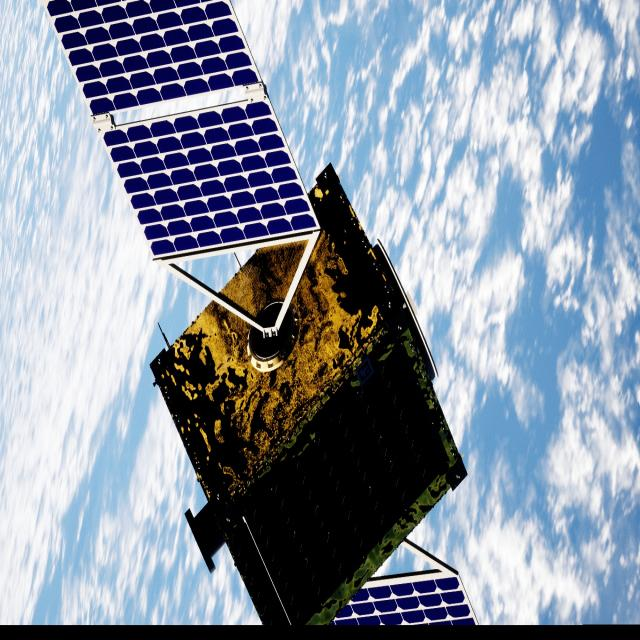satellite: (45, 0, 473, 628)
